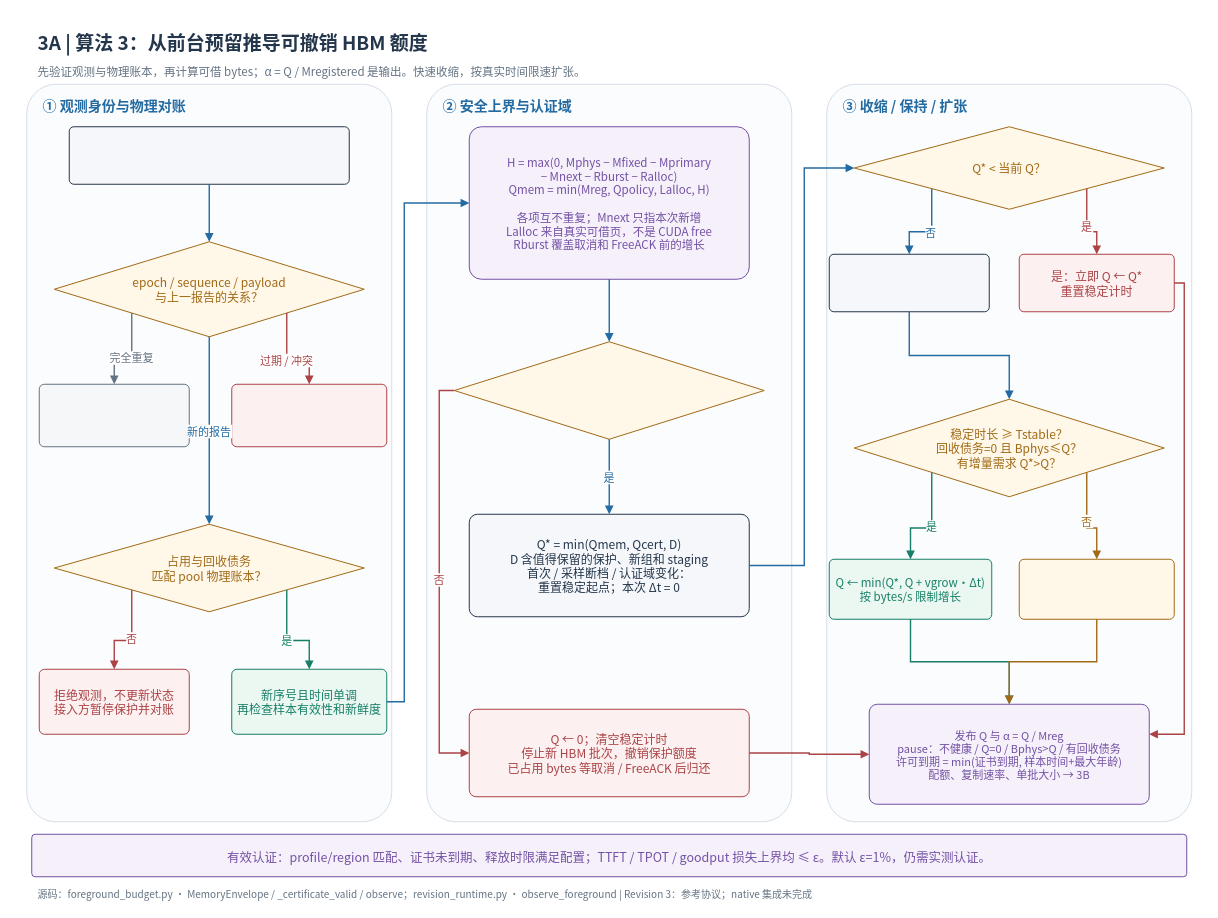
Some shapes in this 1218 by 918 pixel diagram are drawn without their labels. The centre of each missing label's shape, as x and y in pixels:
保持 Q 等待有效状态变化: the point at 1096,589
初始 Q=0；新请求 / token step 恢复预留 / 有效样本 / watchdog: the point at 209,155
否：先保持当前 Q 继续检查扩张条件: the point at 909,283
完全重复：返回原决定 不重复收缩或重放副作用: the point at 114,415
样本有效且新鲜？ 无前台违约？ 认证域 / 证书有效？: the point at 609,390
过期 / 冲突：拒绝 新 epoch 禁保护并对账: the point at 309,415
